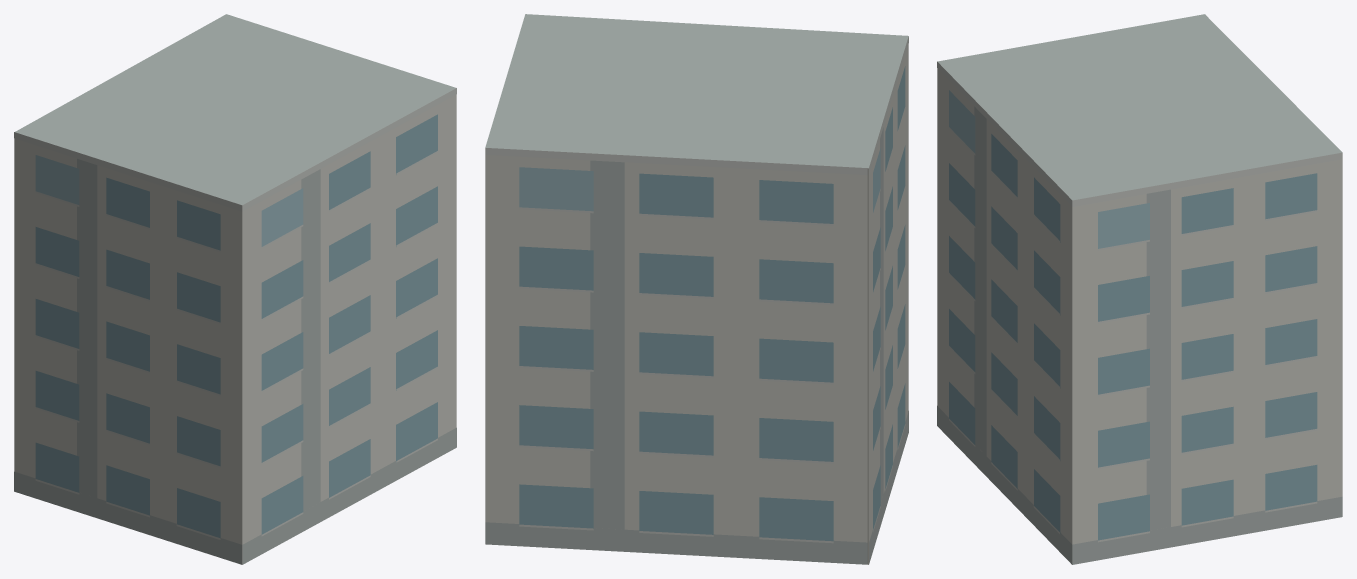
The model's file is survey-upis-32613834.glb.
3 views of the same model, side by side, from view 1: azimuth 30°, elevation 25°; view 2: azimuth 150°, elevation 25°; view 3: azimuth 270°, elevation 25° (orthographic). The views are drawn at different scales.
Parts seen in each view (by area): view 1: survey-upis-32613834.tmp; view 2: survey-upis-32613834.tmp; view 3: survey-upis-32613834.tmp.
Part boxes in pixels (x1,y1,x2,y2): survey-upis-32613834.tmp: (14,14,456,564); survey-upis-32613834.tmp: (485,14,908,564); survey-upis-32613834.tmp: (937,14,1342,564).
Bounding box in the file's own units: 14.88 × 13.55 × 13.67.
